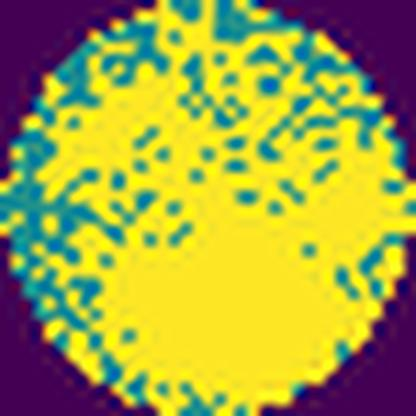Random: (41, 0, 415, 416)
